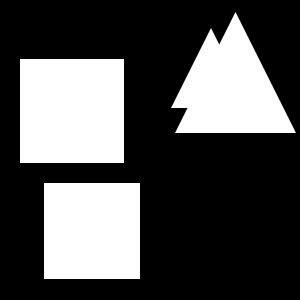circle: (20, 59, 124, 163), (44, 183, 140, 279)
triangle: (175, 12, 296, 133), (171, 28, 251, 108), (65, 67, 119, 121)
